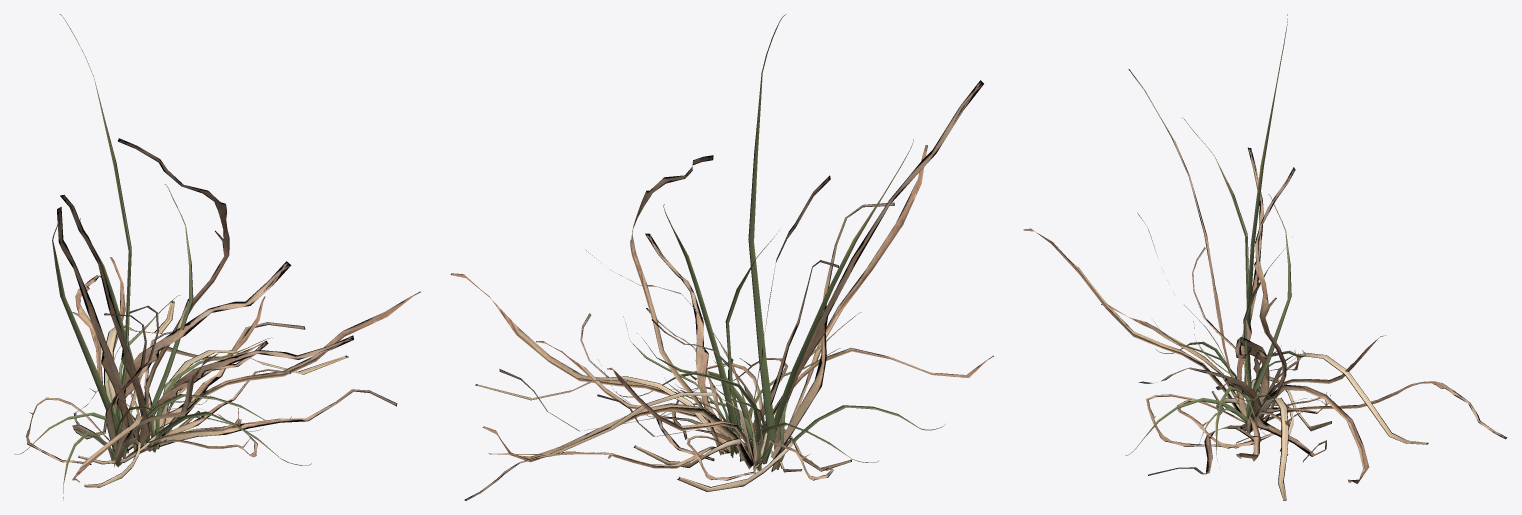
File: grass_medium_02_v2.gltf
3 views of the same model, side by side, from view 1: azimuth 30°, elevation 25°; view 2: azimuth 150°, elevation 25°; view 3: azimuth 270°, elevation 25° (orthographic). The views are drawn at different scales.
Visible parts, largest first — view 1: grass_medium_02_v2; view 2: grass_medium_02_v2; view 3: grass_medium_02_v2.
Boxes of the visible parts, x1,y1,x2,y2 form: grass_medium_02_v2: (14, 14, 420, 498); grass_medium_02_v2: (450, 14, 993, 500); grass_medium_02_v2: (1023, 14, 1507, 500).
Bounding box in the file's own units: 0.1791 × 0.1796 × 0.1993.
1 material, 1 textured.
